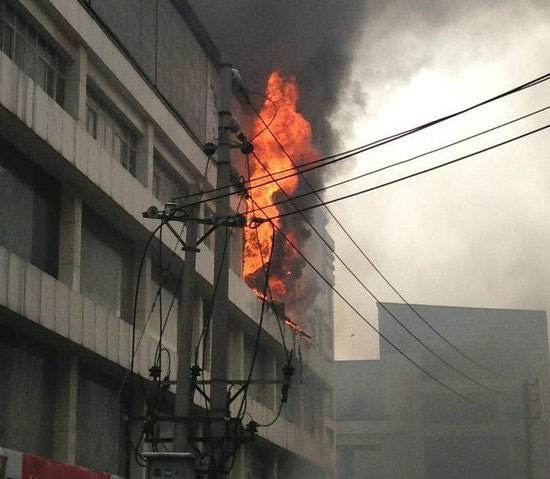fire: (245, 72, 335, 328)
